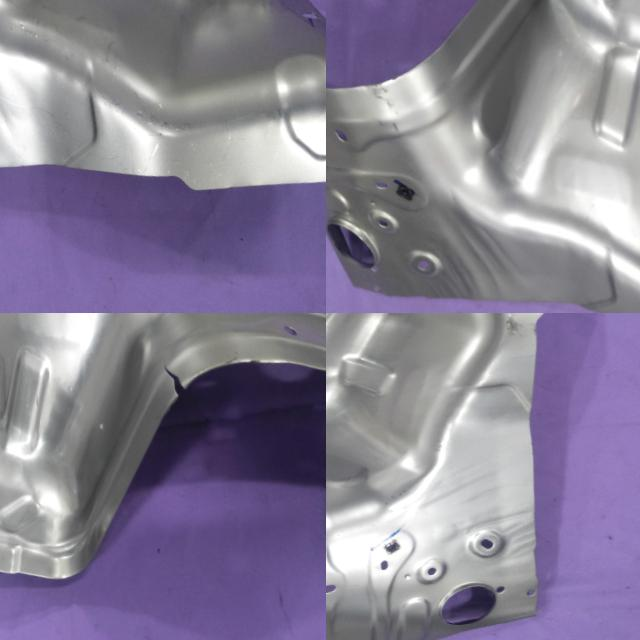Defect: (145, 356, 196, 407)
Healthy: (326, 0, 640, 313), (326, 313, 591, 640), (0, 0, 326, 247)
